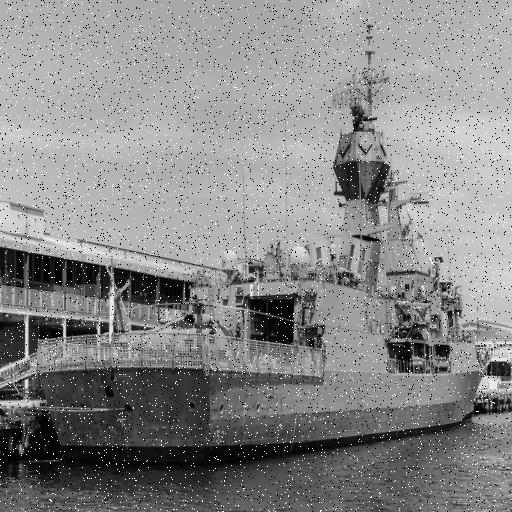Fragata: (34, 12, 496, 474)
